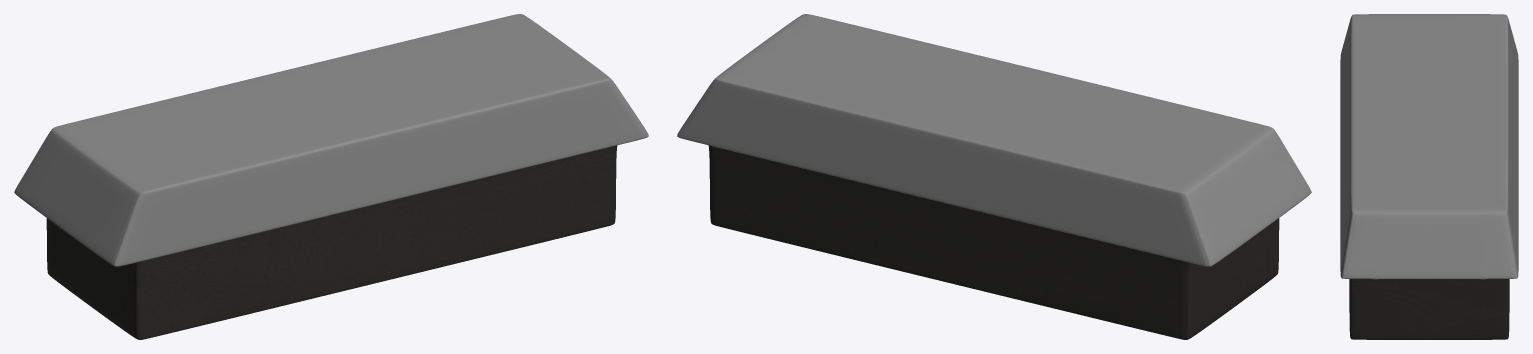
The model's file is Lightbow.fbx.
3 renders of one model, left to right at view 1: azimuth 30°, elevation 25°; view 2: azimuth 150°, elevation 25°; view 3: azimuth 270°, elevation 25°, orthographic. The views are drawn at different scales.
Visible parts, largest first — view 1: Lightbow; view 2: Lightbow; view 3: Lightbow.
Part boxes in pixels (x1,y1,x2,y2): Lightbow: (14, 14, 648, 339); Lightbow: (677, 14, 1311, 339); Lightbow: (1340, 14, 1518, 339).
Bounding box in the file's own units: 33.37 × 8.78 × 11.12.
